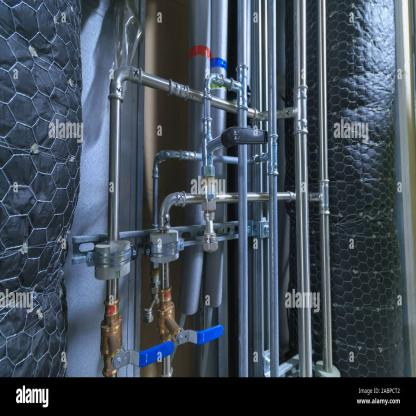PVC: (189, 0, 229, 93), (178, 241, 226, 315), (186, 100, 203, 155), (184, 160, 204, 194), (210, 109, 228, 138), (214, 161, 228, 197), (185, 204, 206, 225), (215, 201, 228, 221), (214, 145, 228, 158)
